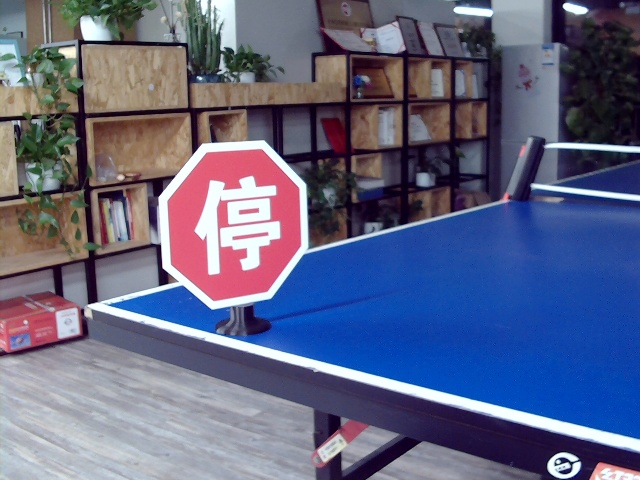stop: (190, 176, 283, 272)
